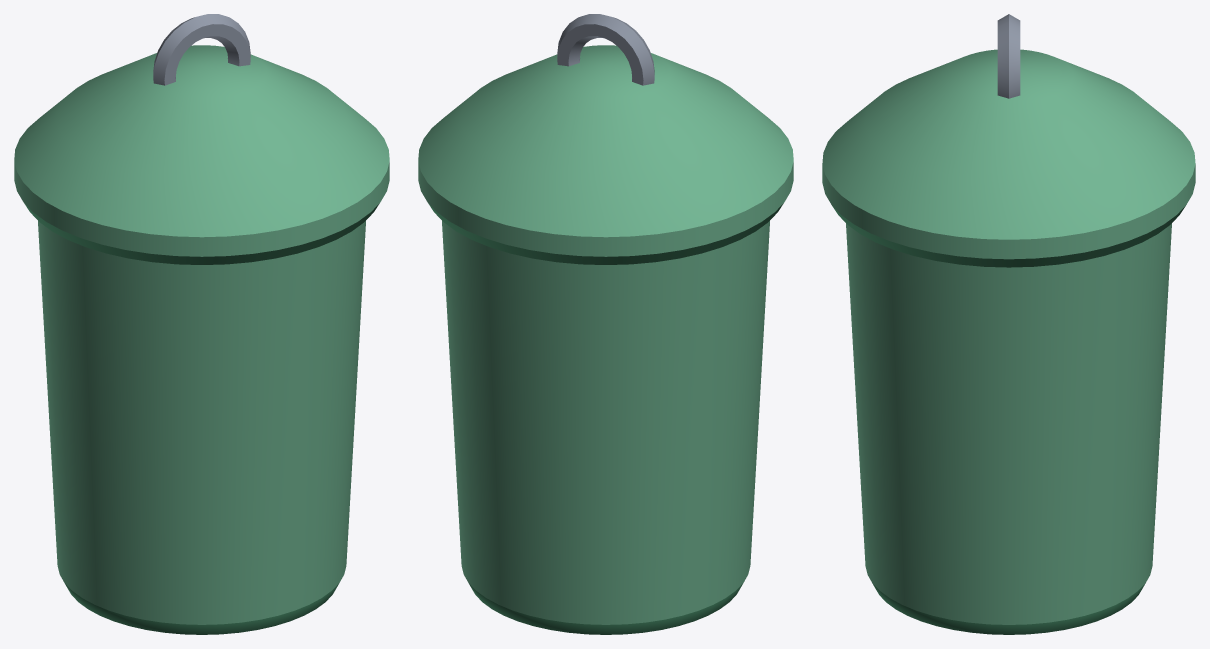
The model's file is trashcan.glb.
3 views of the same model, side by side, from view 1: azimuth 30°, elevation 25°; view 2: azimuth 150°, elevation 25°; view 3: azimuth 270°, elevation 25° (orthographic).
Visible parts, largest first — view 1: trashcan; view 2: trashcan; view 3: trashcan.
Boxes of the visible parts, x1,y1,x2,y2 form: trashcan: (14, 14, 389, 634); trashcan: (418, 14, 793, 634); trashcan: (822, 14, 1195, 634).
Size of the model in its own units: 0.5193 by 0.8574 by 0.5197.
Materials: 1 (1 with a texture image).
